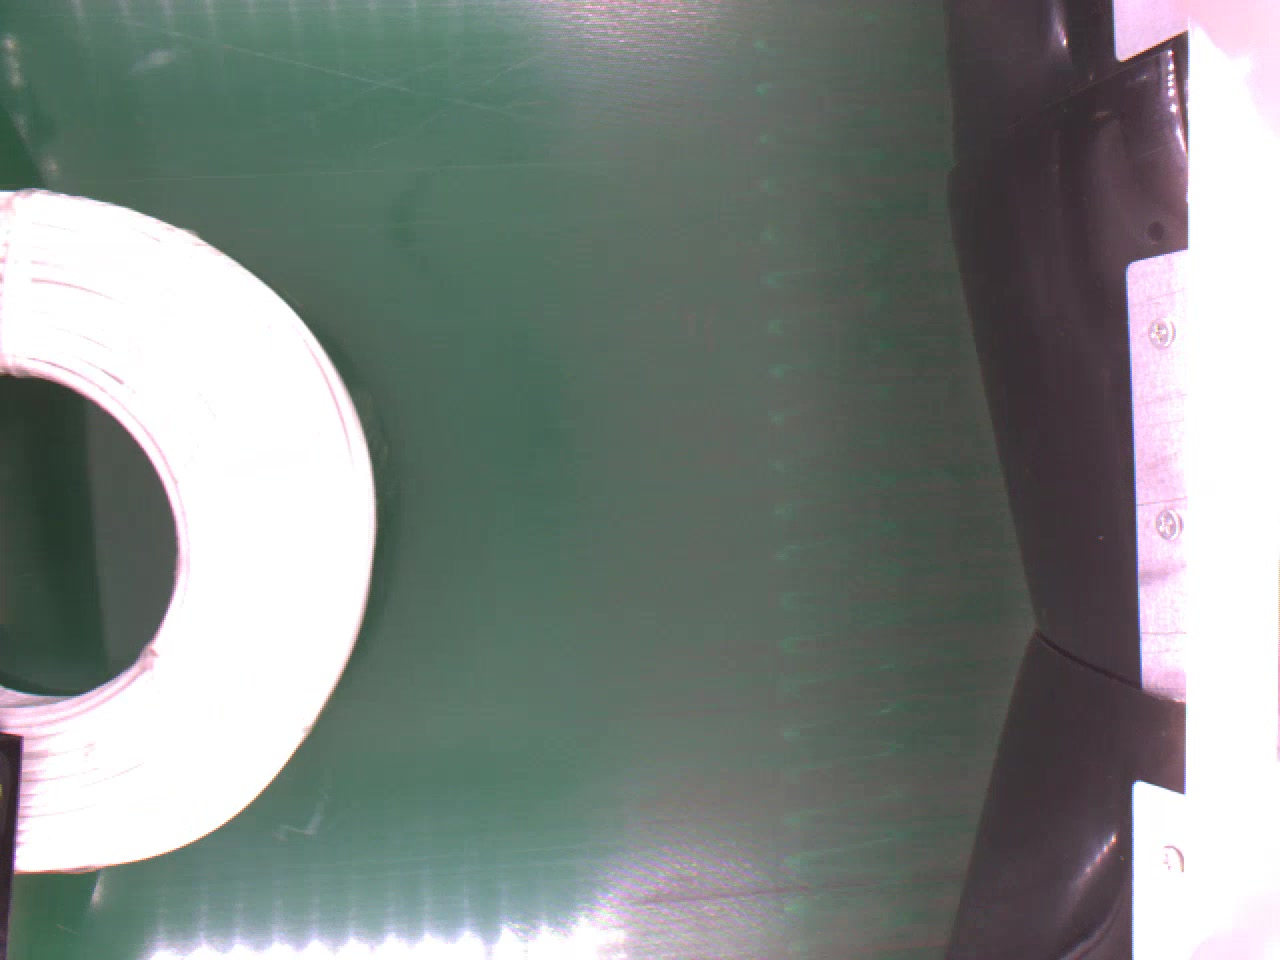white: (0, 179, 368, 867)
